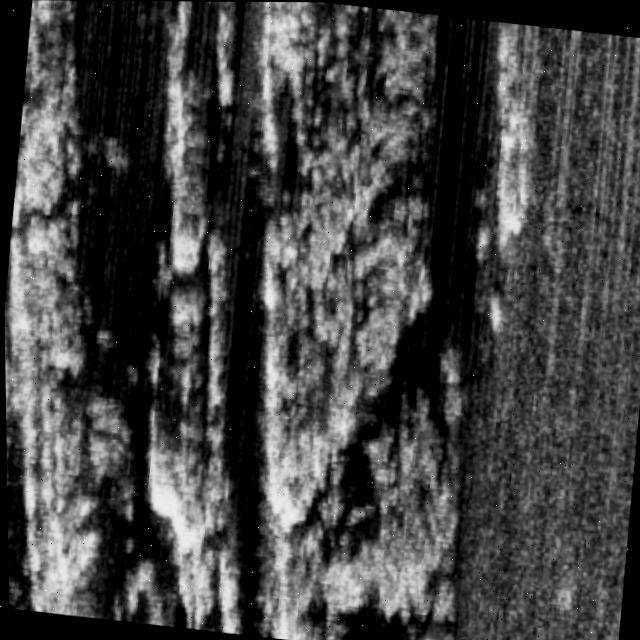bedrock group: (0, 0, 560, 640)
